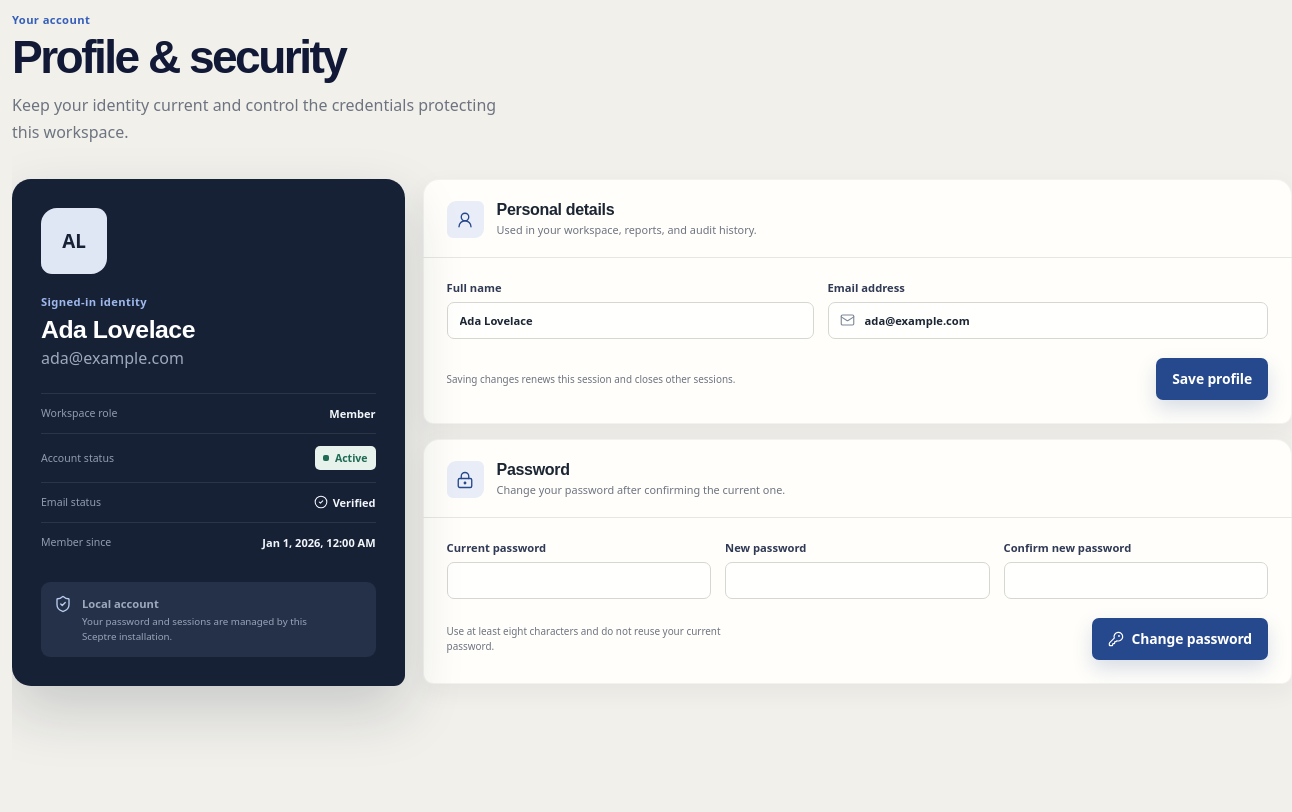
Scenario: profile and security › updates account details and keeps the renewed session
This screenshot has width=1292, height=812.
Replace the text in the field labelled "Full name" with "Ada Byron" at x=630, y=320, box x1=447 y1=302 x2=814 y2=339
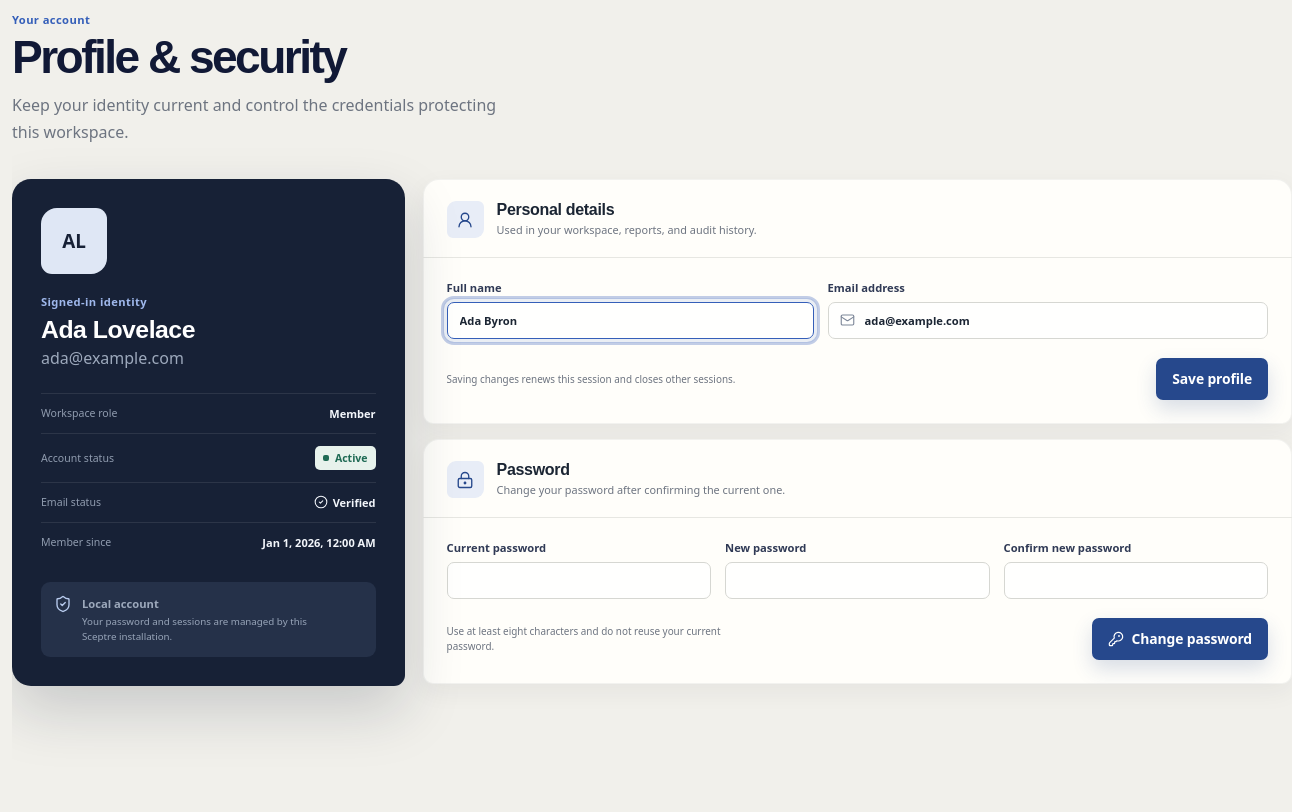
Replace the text in the field labelled "Email address" with "ada.byron@example.com" at x=1048, y=320, box x1=828 y1=302 x2=1268 y2=339
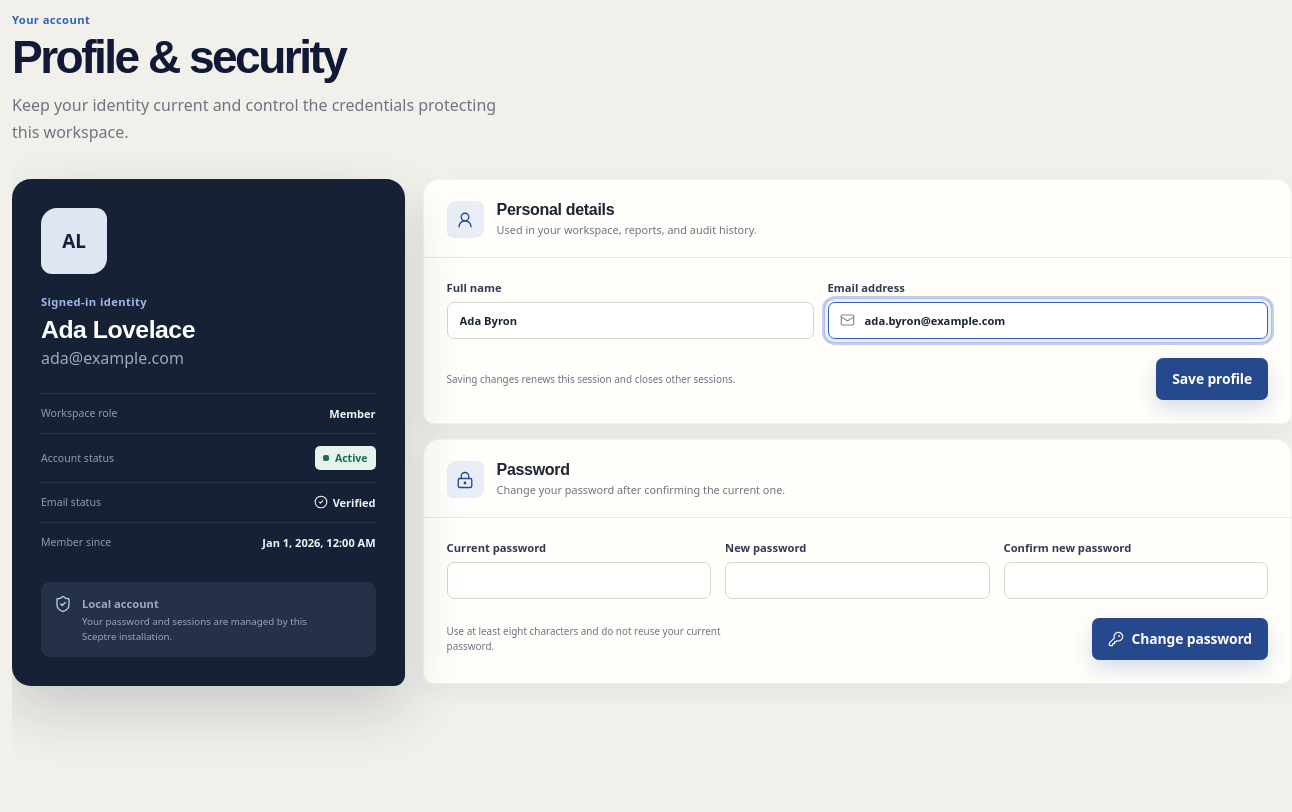
Click the button "Save profile".
click(1212, 379)  # box x1=1156 y1=358 x2=1268 y2=400
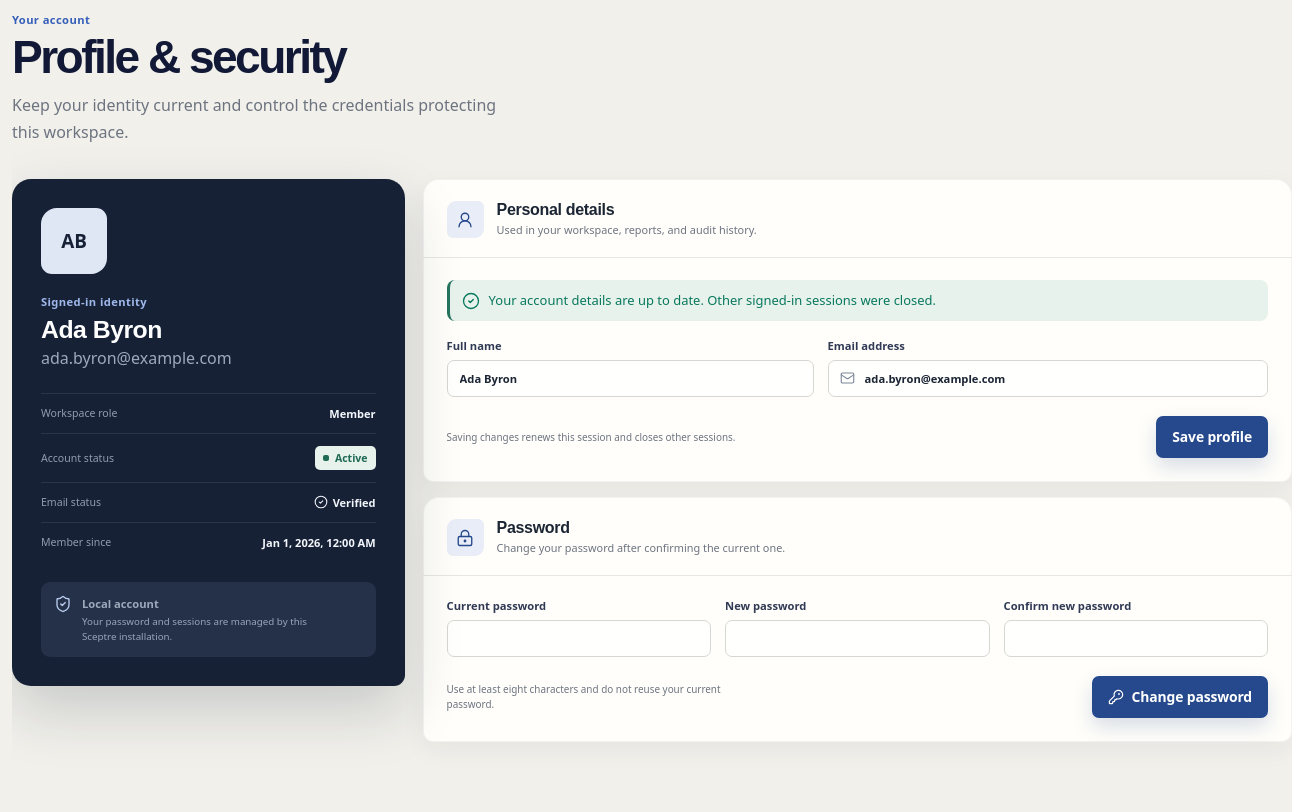
Expected: the text "account details are up to date" is shown, x1=489 y1=291 x2=936 y2=309
Expected: the heading "Ada Byron" is shown, x1=41 y1=316 x2=162 y2=343
